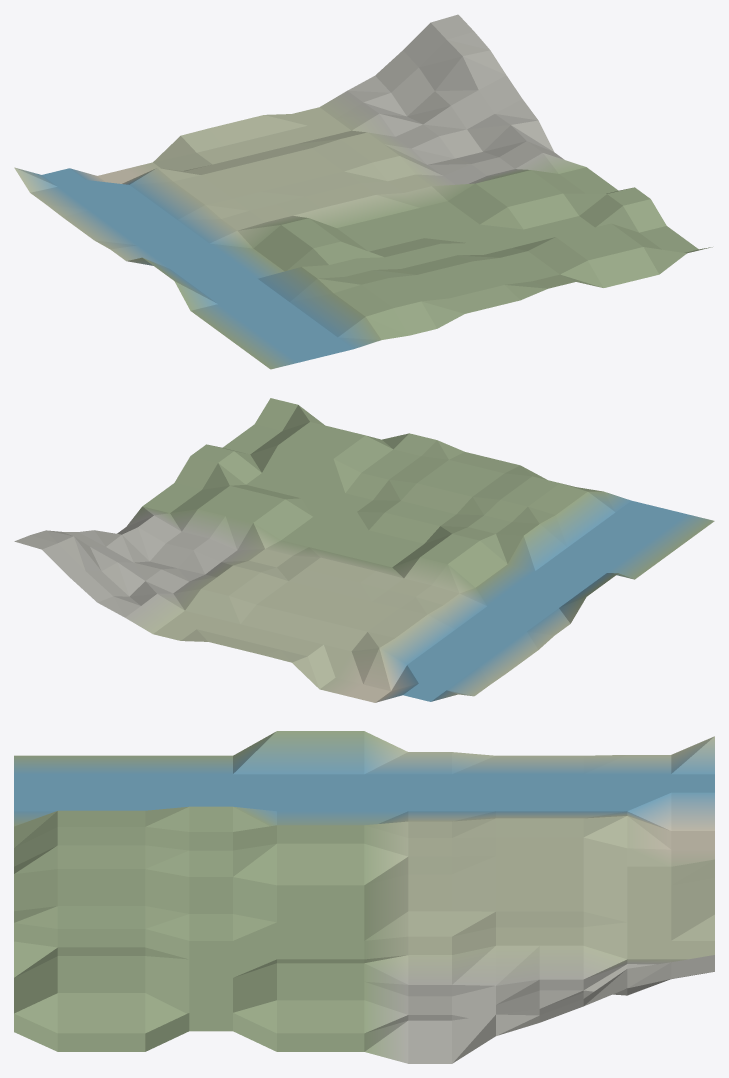
3 renders of one model, top to bottom at view 1: azimuth 30°, elevation 25°; view 2: azimuth 150°, elevation 25°; view 3: azimuth 270°, elevation 25°, orthographic. The views are drawn at different scales.
Size of the model in its own units: 32 by 5.05 by 32.
